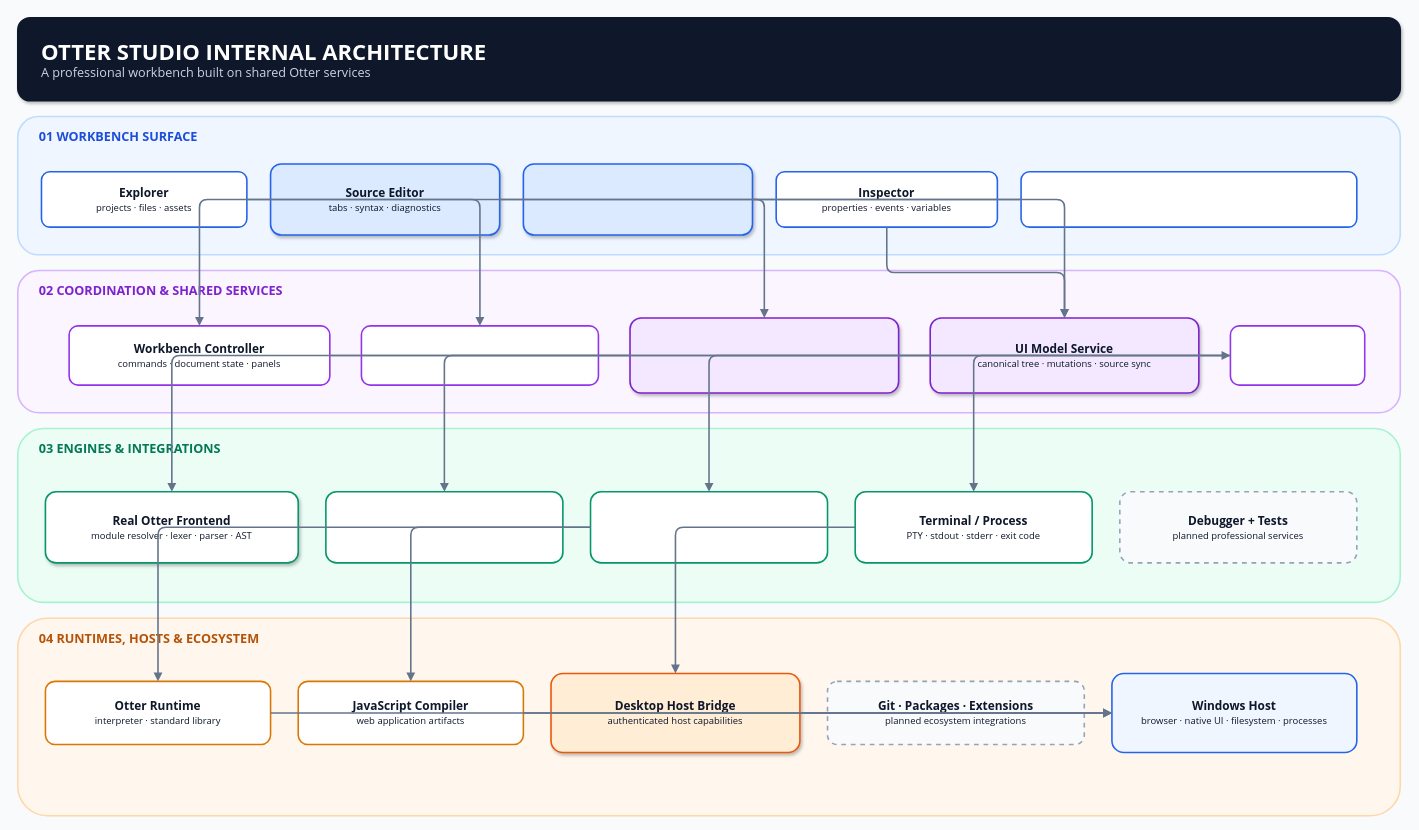
Image size: 1419x830. Some labels were removed from this diagram. The shapes that lost their labels are listed below. From the top down, each one's centre as x and y in pixels, then its label:
At (x=638, y=200): "UI Designer canvas · hierarchy · toolbox".
At (x=1188, y=199): "Output Workbench problems · output · terminal · tests".
At (x=479, y=355): "Project / Workspace tree · paths · configuration".
At (x=765, y=356): "Otter Language Service symbols · diagnostics · navigation".
At (x=1297, y=355): "Command Bus run · build · save · debug".
At (x=444, y=527): "Designer Round Trip parse · model · generate · verify".
At (x=708, y=527): "Build / Run Service console · web · desktop · server".
